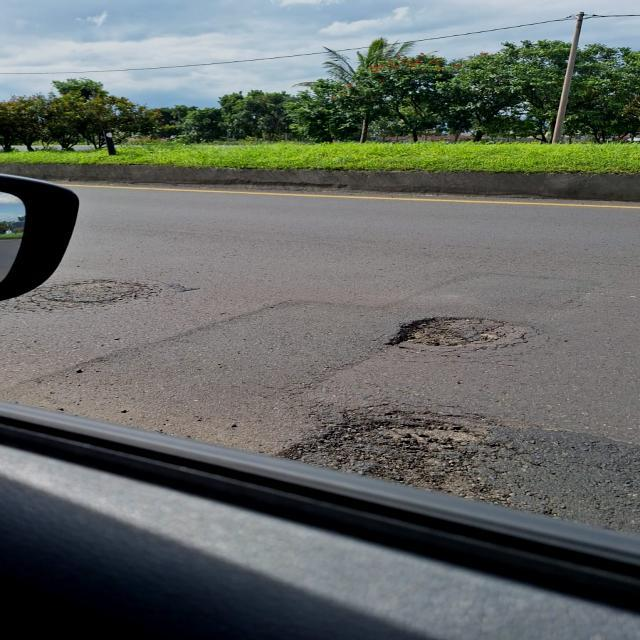Buraco: (266, 399, 546, 508), (381, 313, 542, 356)
